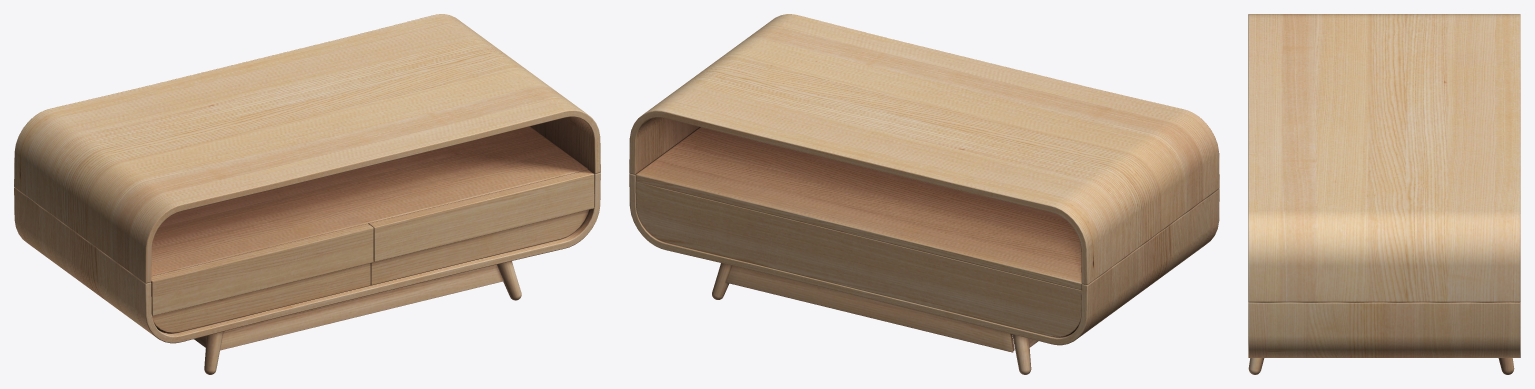
Rendered from esme_coffee_table_with_2_drawers_ash.glb.
The picture shows the model from 3 angles, left to right: view 1: azimuth 30°, elevation 25°; view 2: azimuth 150°, elevation 25°; view 3: azimuth 270°, elevation 25°; orthographic projection. The views are drawn at different scales.
Visible parts, largest first — view 1: WHITE, ASH; view 2: WHITE, ASH; view 3: WHITE, ASH.
Part boxes in pixels (box(x1,y1,x2,y2)): WHITE: box(14, 14, 600, 343); ASH: box(194, 261, 521, 374); WHITE: box(629, 14, 1219, 345); ASH: box(712, 263, 1038, 374); WHITE: box(1248, 14, 1520, 357); ASH: box(1248, 358, 1514, 374).
Size of what is drawn, in the model's own units: 120 by 45.37 by 60.17.
Materials: 2 (2 with a texture image).
